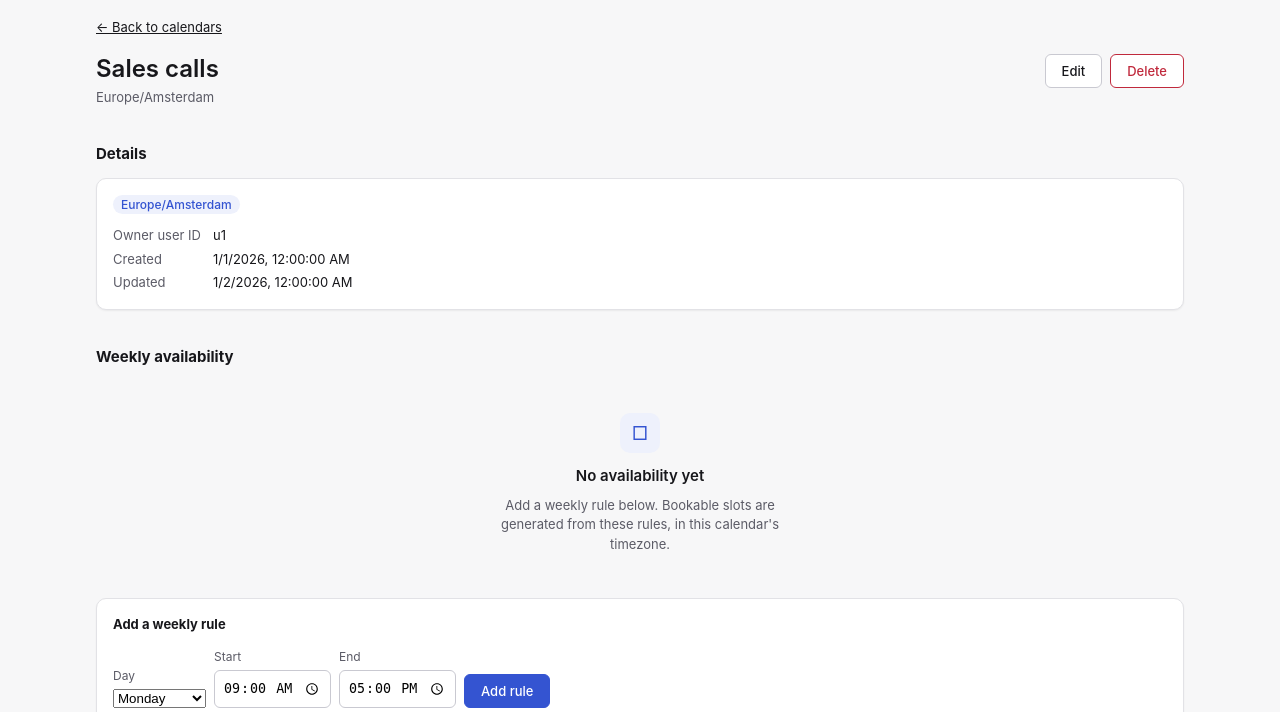
Test: CalendarDetailPage › a refused delete keeps the user on the page with the error visible
Expected: the heading "Sales calls" is shown, [96,54,219,84]
Click the button "Delete". click: click(1147, 70)
box: [1110,54,1184,88]
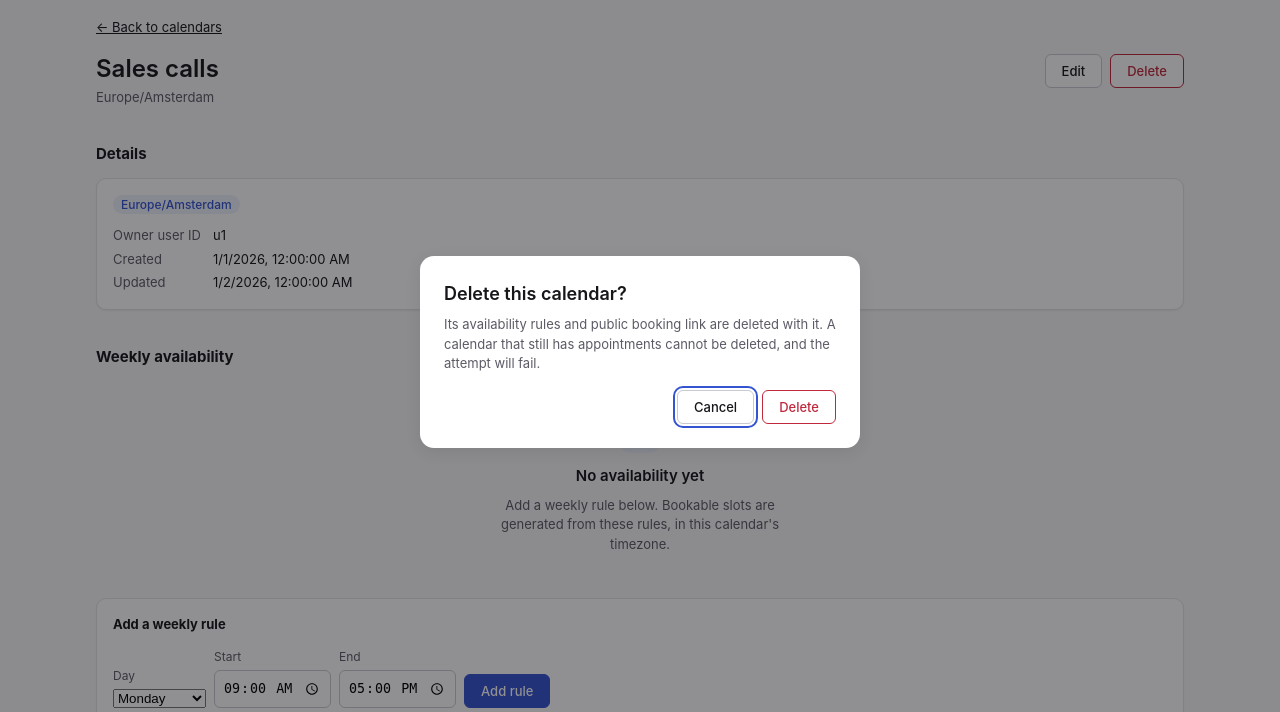
Click the button "Delete". click: click(799, 407)
box: [762,390,836,424]
(page scrolled)
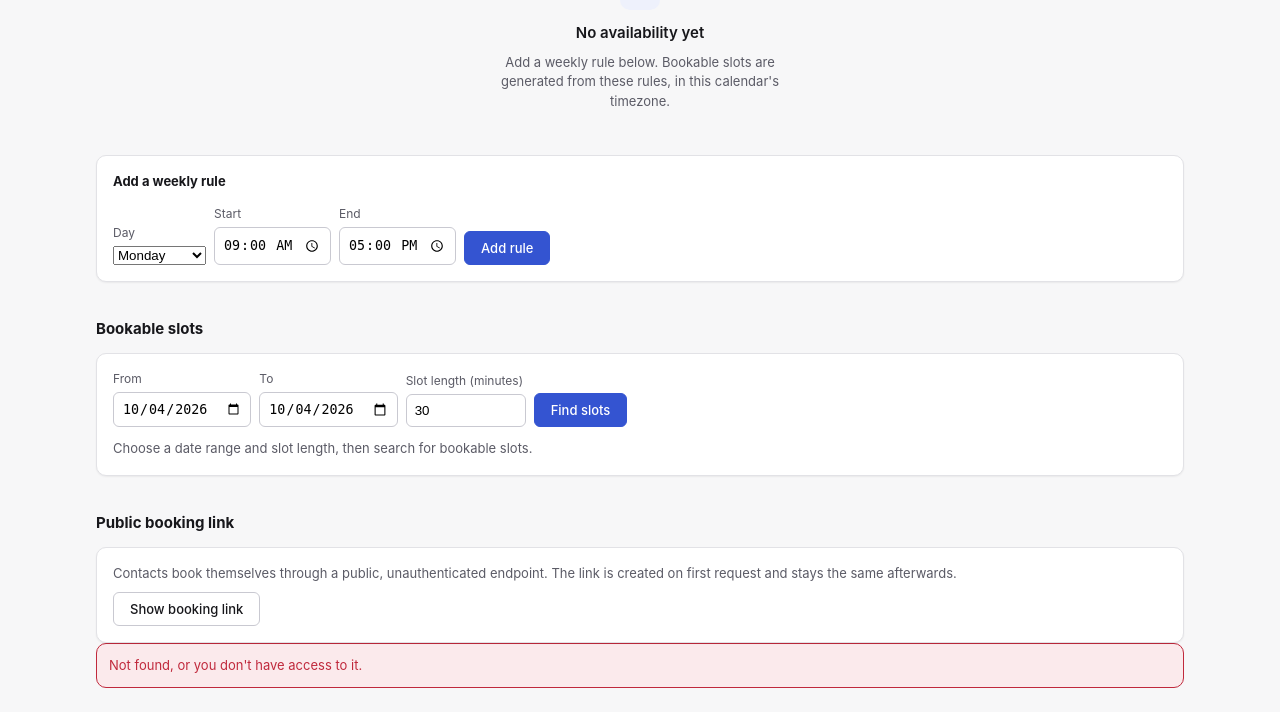
Result: the text "Not found, or you don't have access to it." is shown at [109,657,362,673]
